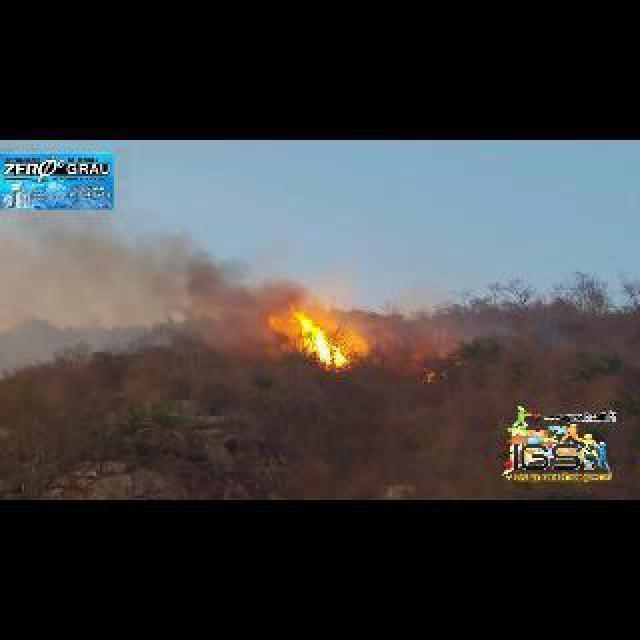Fire: (287, 306, 363, 374)
Smoke: (2, 212, 292, 368)
